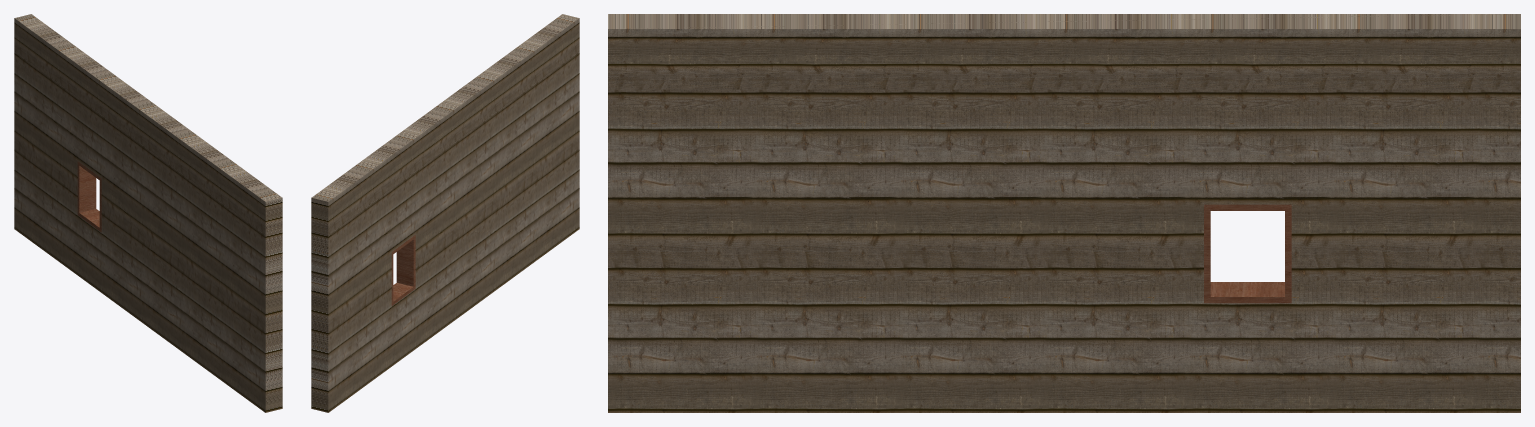
Rendered from R1_Kiri.fbx.
The picture shows the model from 3 angles, left to right: view 1: azimuth 30°, elevation 25°; view 2: azimuth 150°, elevation 25°; view 3: azimuth 270°, elevation 25°; orthographic projection. The views are drawn at different scales.
Visible parts, largest first — view 1: Cube.020; view 2: Cube.020; view 3: Cube.020.
Part boxes in pixels (x1=…): Cube.020: x1=14, y1=14, x2=282, y2=412; Cube.020: x1=311, y1=14, x2=579, y2=412; Cube.020: x1=608, y1=14, x2=1520, y2=412.
Bounding box in the file's own units: 0.7 × 8.31 × 17.9.
Materials: 2 (2 with a texture image).
